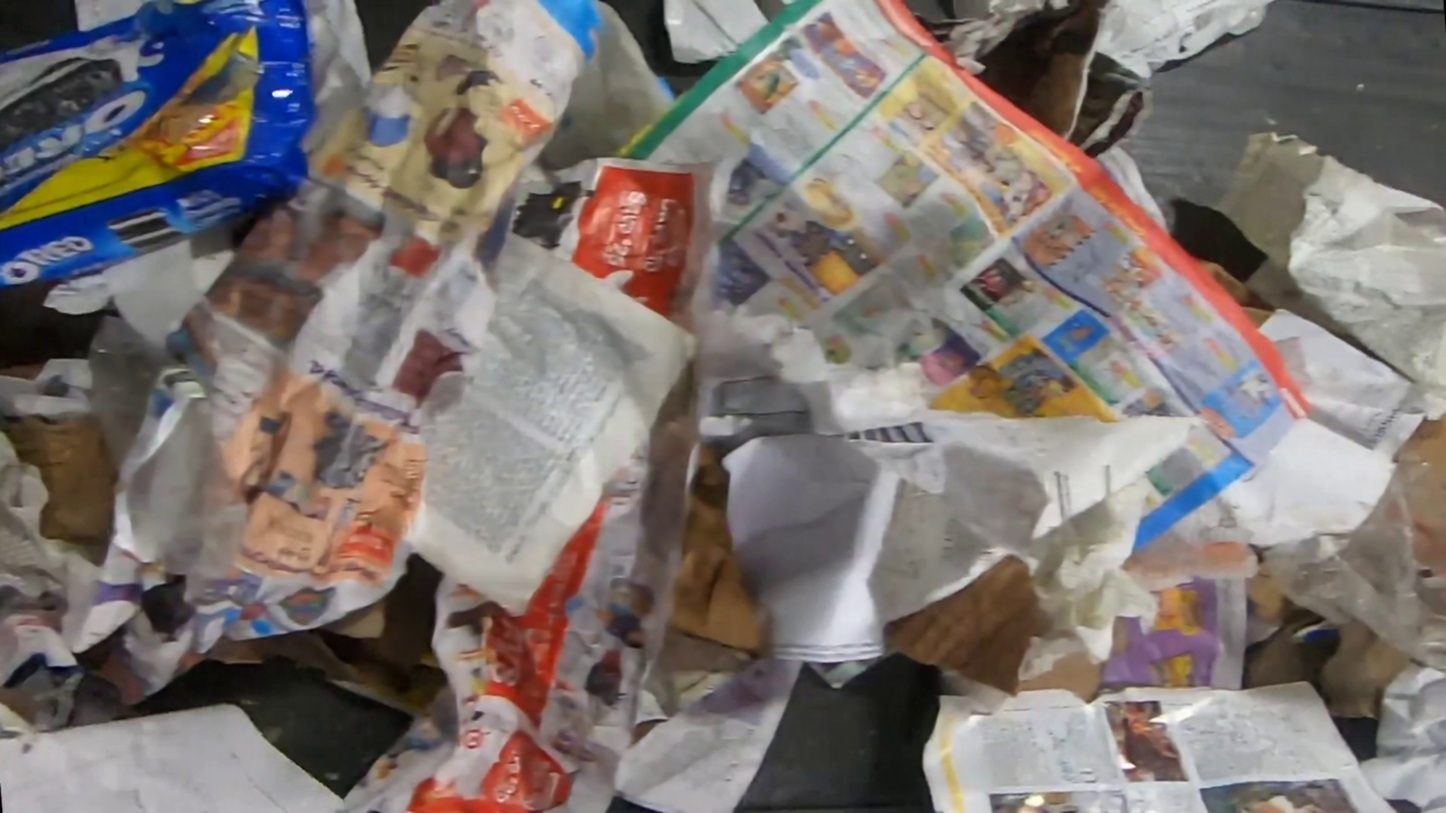cardboard: (1018, 0, 1153, 161), (1406, 419, 1446, 582)
plastic: (0, 0, 318, 289), (1259, 442, 1446, 675)
